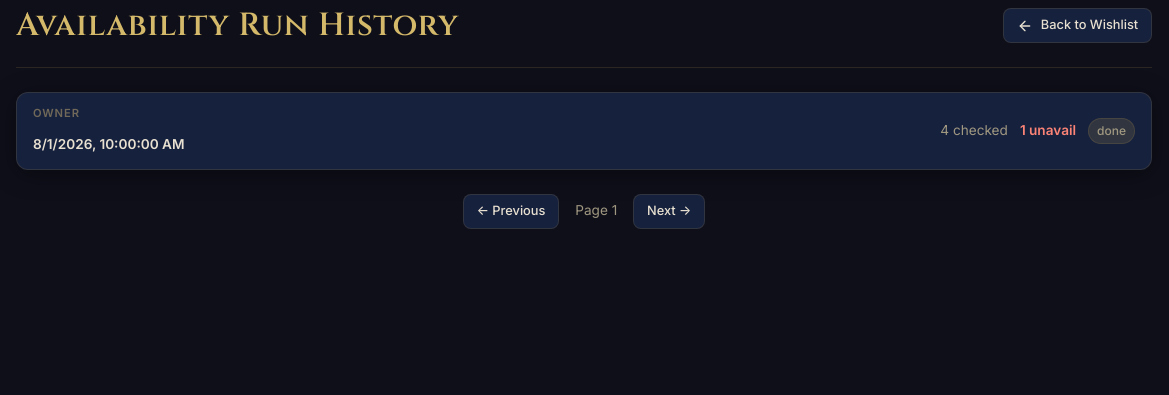
Test: WishlistAvailabilityHistoryPage › renders a populated list and drills into a run on click
Click the element showing "owner 8/1/2026, 10:00:00 AM 4 checked 1 unavail done" at [584, 131], box [16,92,1152,170]
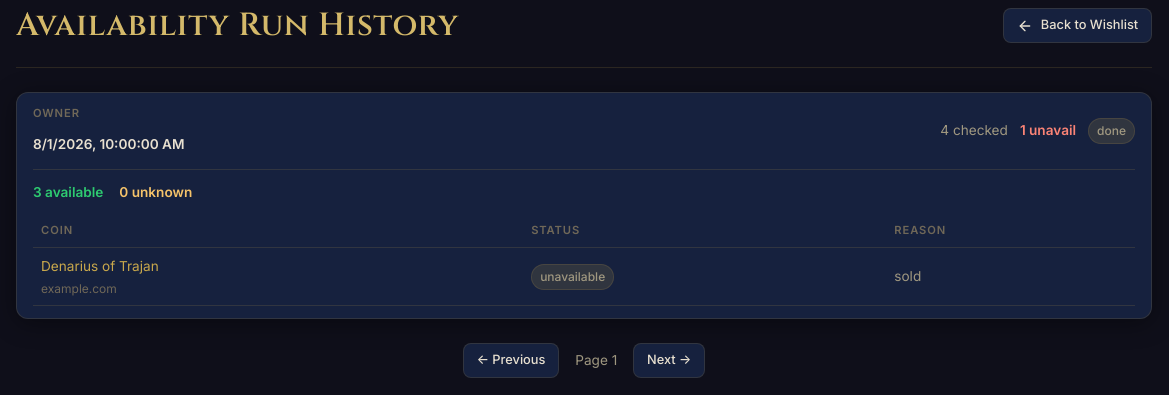
Expected: the text "Denarius of Trajan" is shown, [41,258,159,274]
